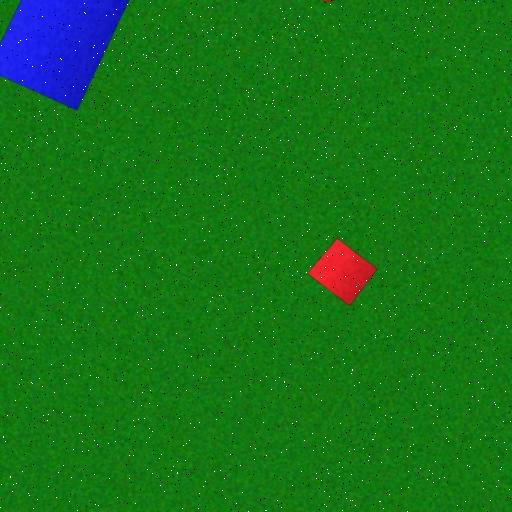BLUE_SQUARE: (0, 0, 130, 111)
RED_SQUARE: (306, 238, 378, 306)
